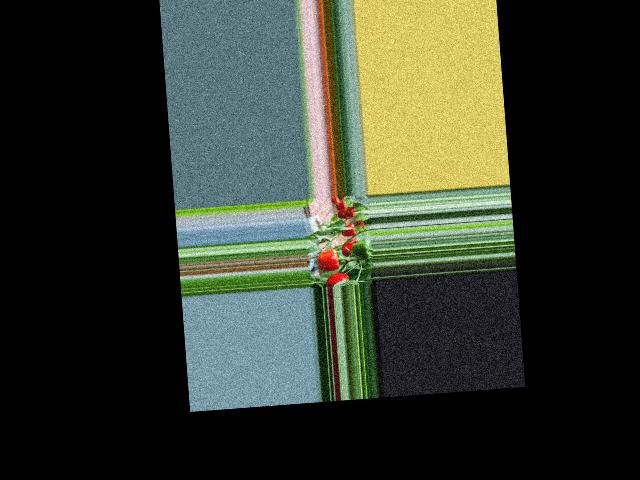bell_pepper: (336, 221, 359, 237)
